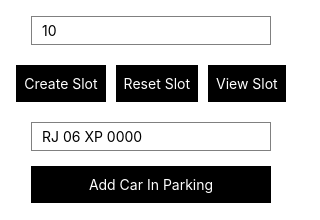
Test: Create Parking Slot › InVaild Number (a): User should not be able to enter slot number
Replace the text in the field with test id "Slot-Number-Input" with "a" at (151, 30), box x1=31 y1=16 x2=271 y2=45
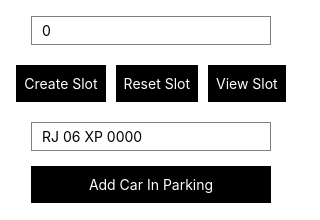
Check: the field with test id "Slot-Number-Input" holds "0", box x1=31 y1=16 x2=271 y2=45
